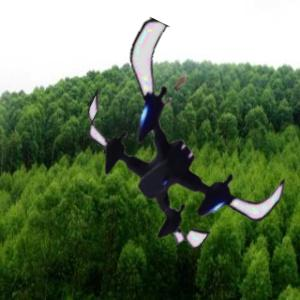drone: (72, 46, 295, 269)
